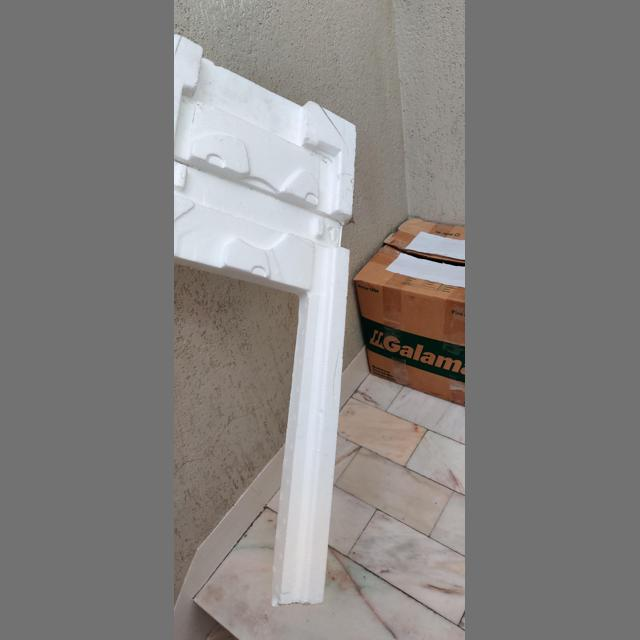litter: (174, 34, 357, 607), (354, 218, 466, 406)
